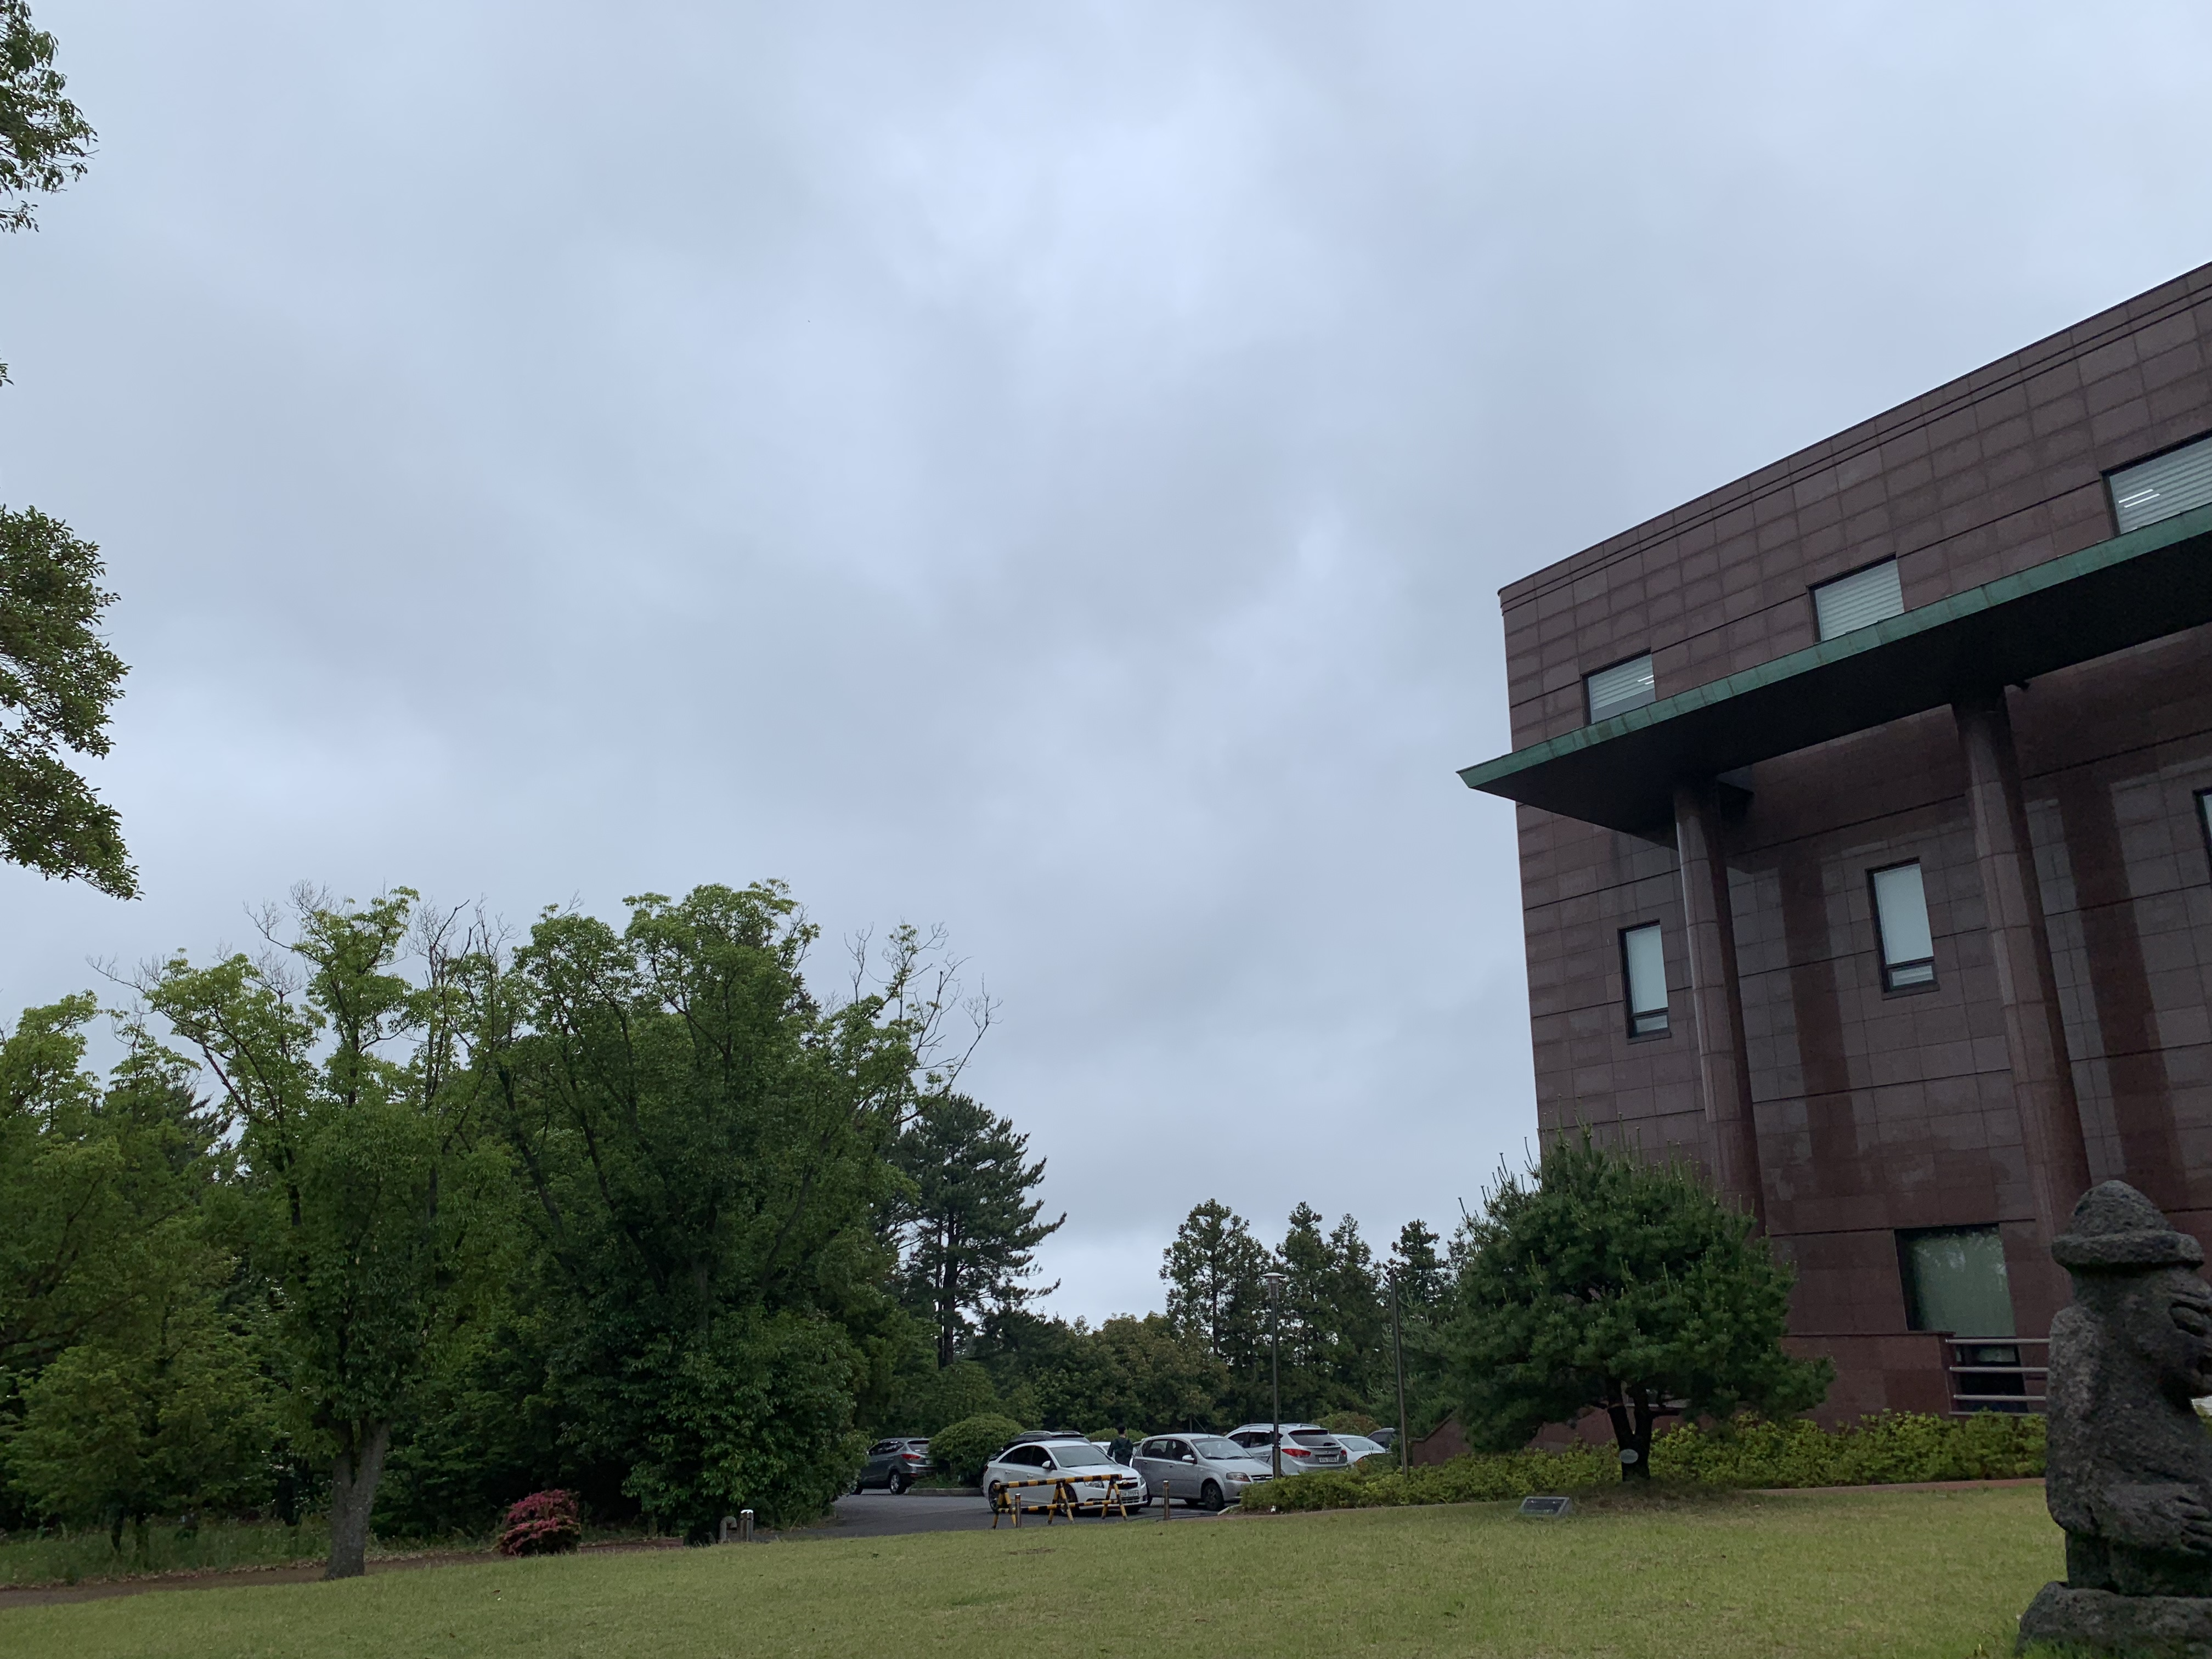Museum: (1461, 190, 2212, 1534)
